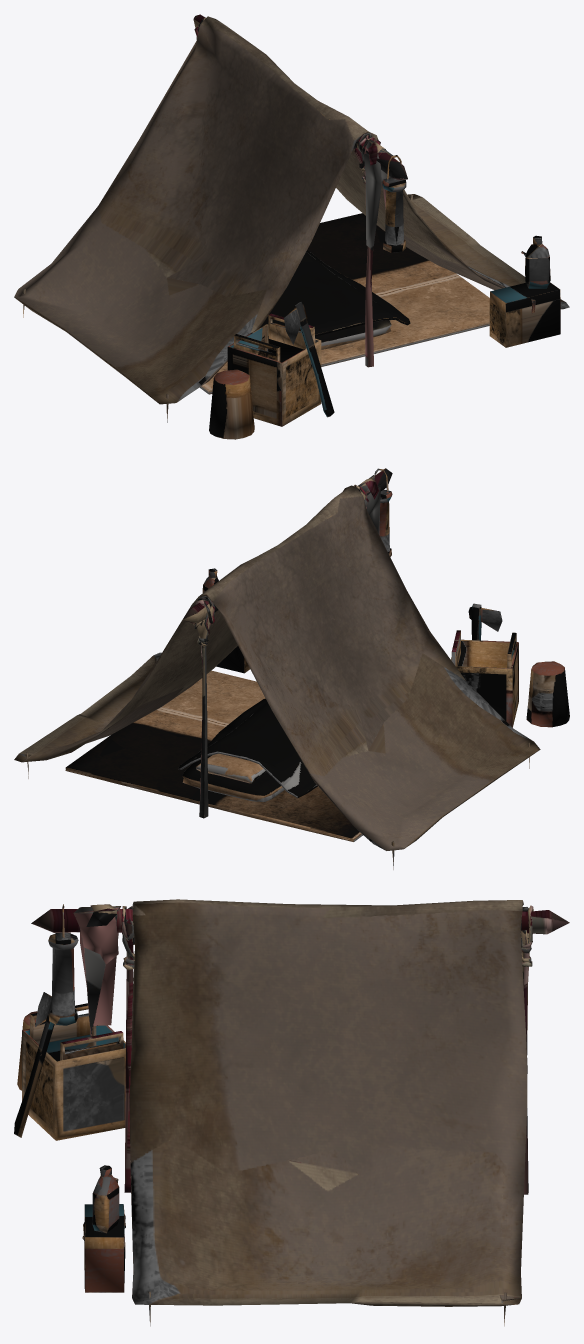
File: TeltsBomzis.fbx
The picture shows the model from 3 angles, top to bottom: view 1: azimuth 30°, elevation 25°; view 2: azimuth 150°, elevation 25°; view 3: azimuth 270°, elevation 25°; orthographic projection. The views are drawn at different scales.
Visible parts, largest first — view 1: Props; view 2: Props; view 3: Props.
Part boxes in pixels (<box>): Props: <box>14,14,569,439</box>; Props: <box>14,468,569,869</box>; Props: <box>14,899,569,1326</box>.
Bounding box in the file's own units: 2.96 × 1.74 × 2.82.
1 material, 1 textured.
